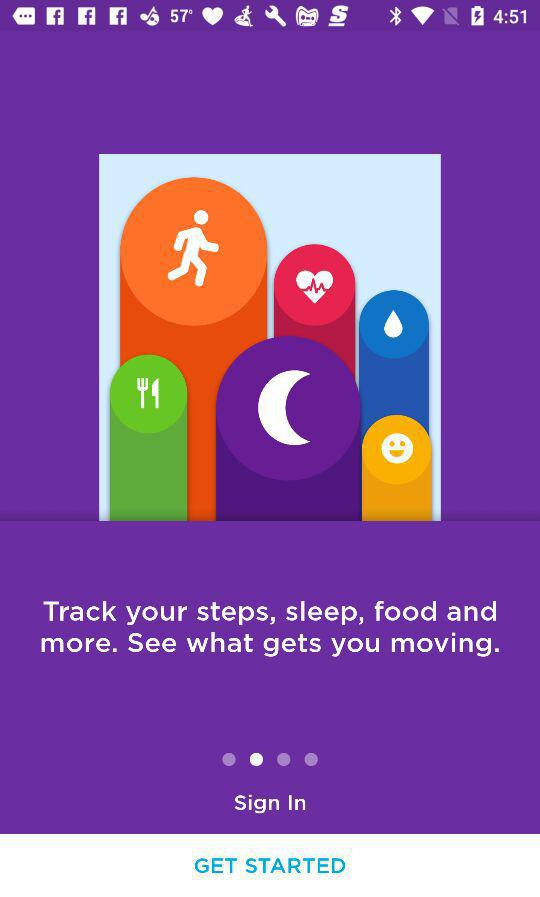Image: (99, 154, 442, 522)
PageIndicator: (221, 751, 320, 769)
Text: (41, 600, 500, 658), (234, 794, 306, 814)
TextButton: (1, 834, 540, 897)
UpperTaskBar: (1, 1, 540, 33)
